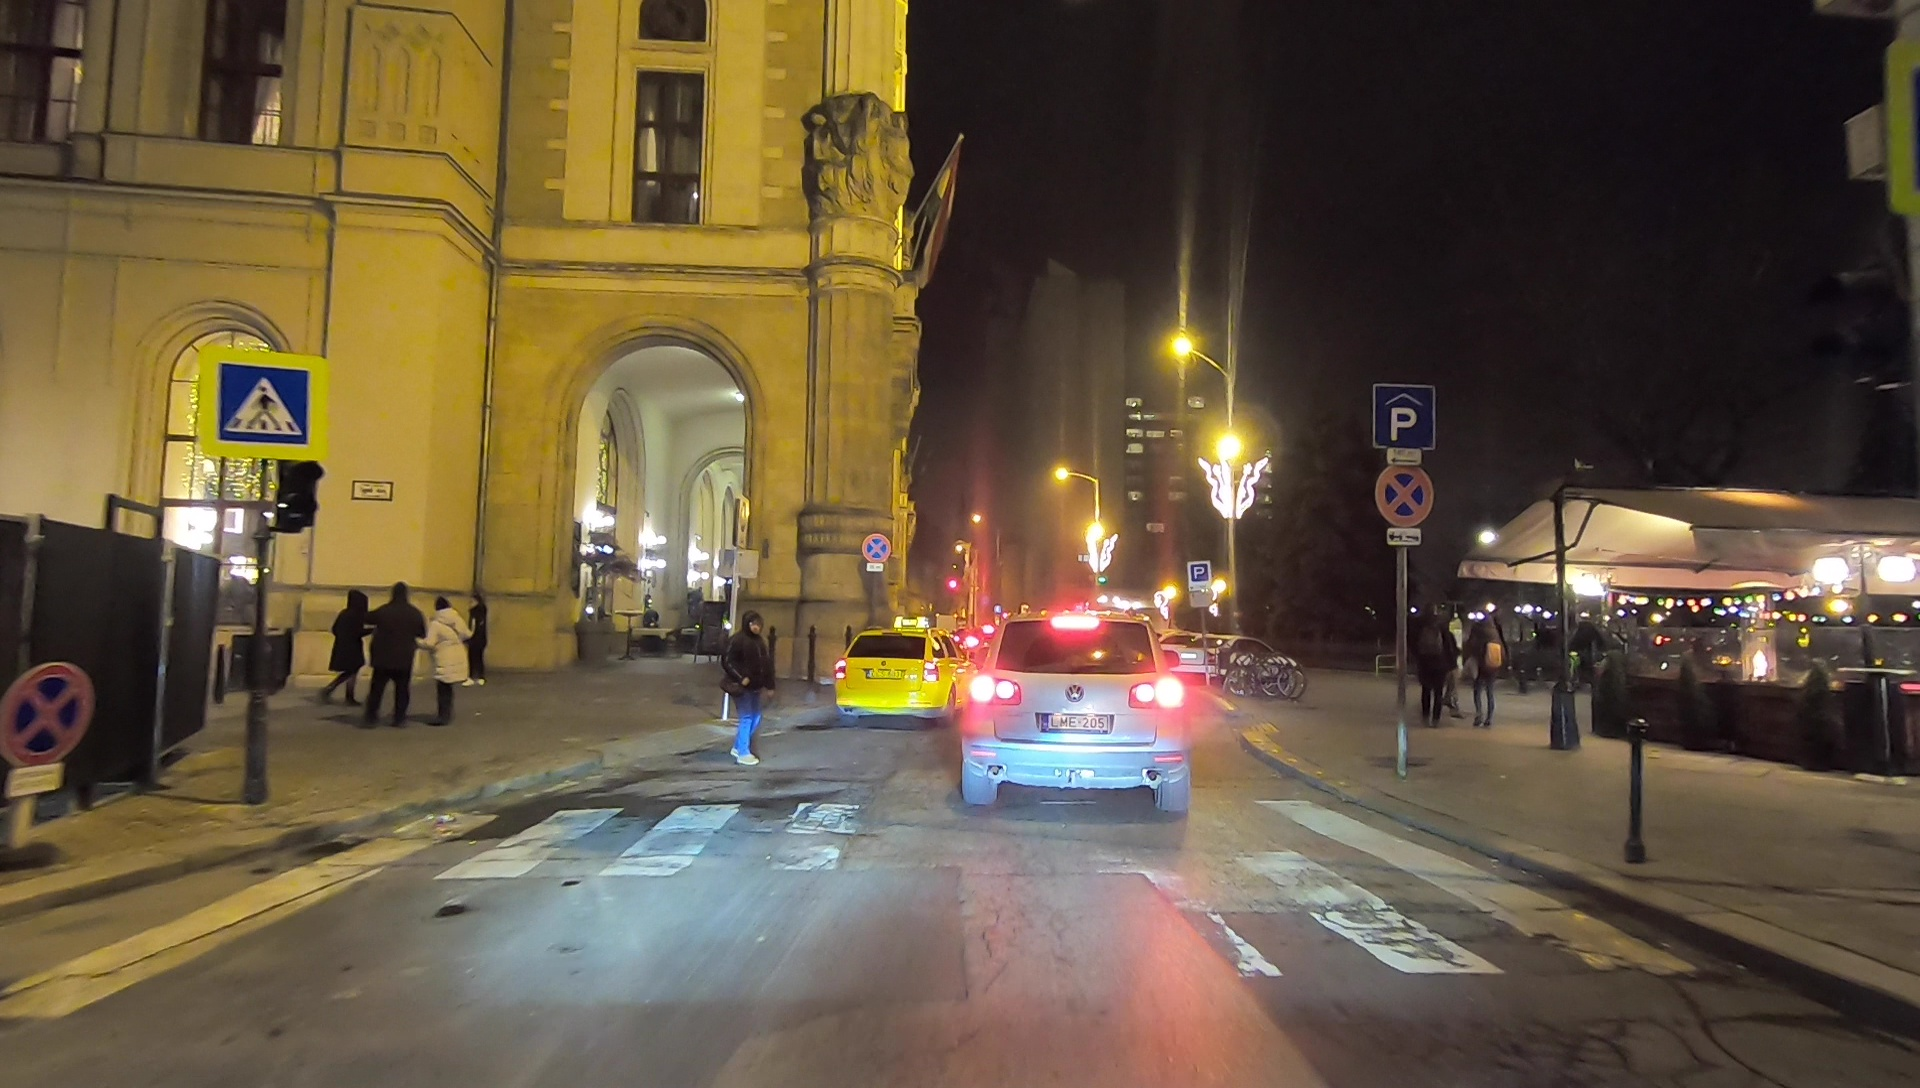person: (371, 582, 421, 722), (723, 611, 767, 765), (425, 599, 472, 719), (1411, 605, 1457, 725), (327, 580, 368, 707), (1464, 614, 1502, 729), (465, 596, 492, 688)
